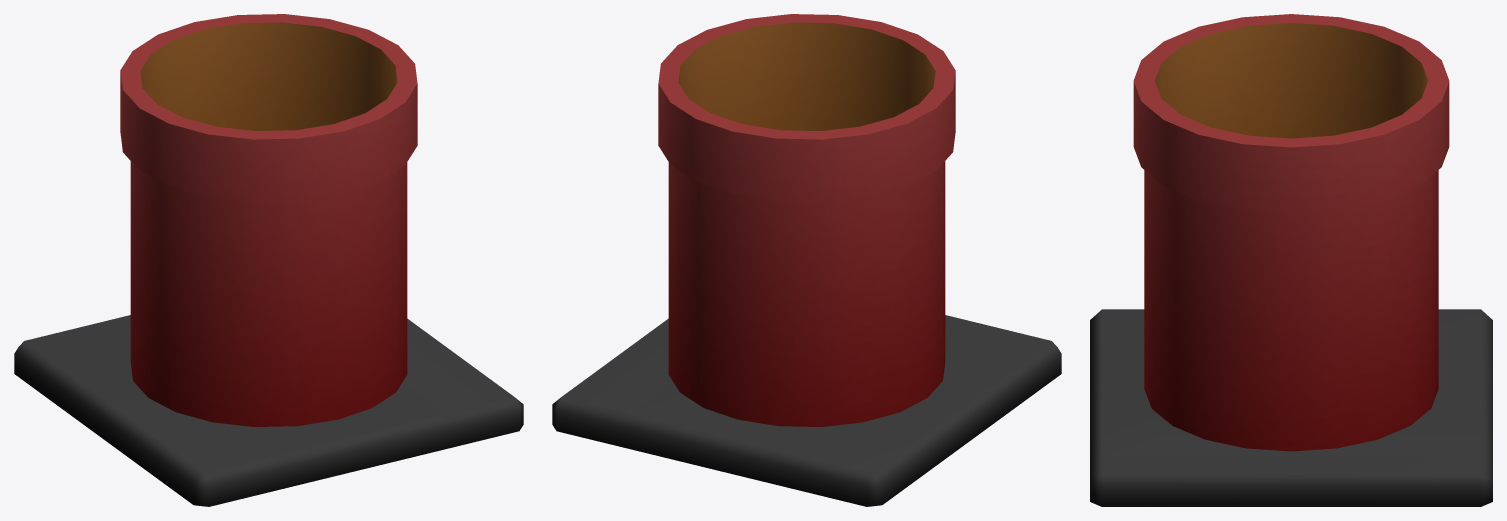
The model's file is Firework_Boomer.obj.
3 renders of one model, left to right at view 1: azimuth 30°, elevation 25°; view 2: azimuth 150°, elevation 25°; view 3: azimuth 270°, elevation 25°, orthographic. The views are drawn at different scales.
Visible parts, largest first — view 1: Handle; view 2: Handle; view 3: Handle.
Part boxes in pixels (x1,y1,x2,y2): Handle: (14, 14, 523, 506); Handle: (552, 14, 1061, 506); Handle: (1090, 14, 1492, 506).
Bounding box in the file's own units: 7.97 × 7.45 × 7.97.
Materials: 1 (1 with a texture image).
